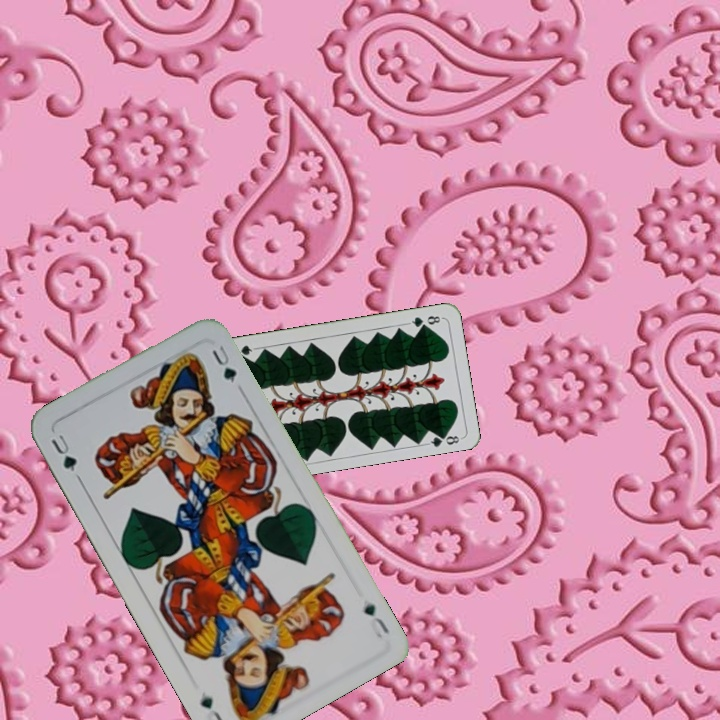G8: (404, 312, 445, 330)
GU: (47, 430, 80, 475), (359, 600, 392, 641)
